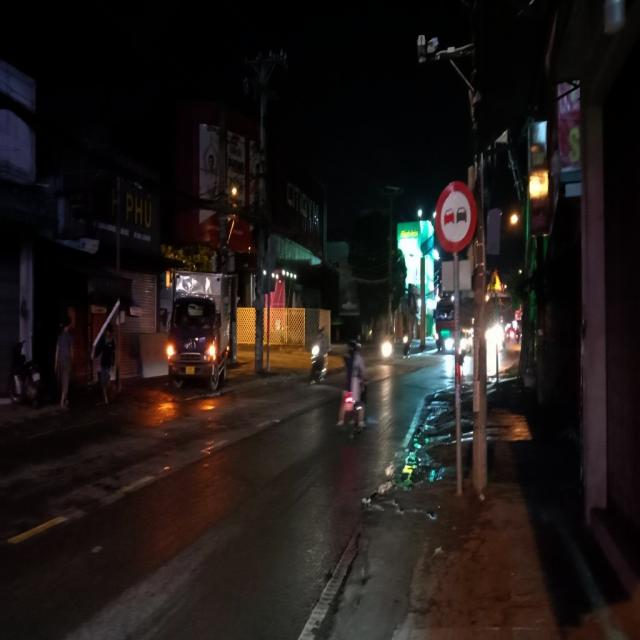cam_vuot: (435, 178, 478, 258)
giao_nhau_voi_duong_khong_uu_tien: (487, 266, 505, 294)
